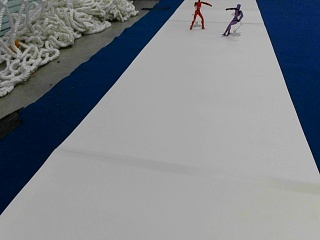pedestrian: (189, 0, 211, 30), (223, 3, 243, 35)
